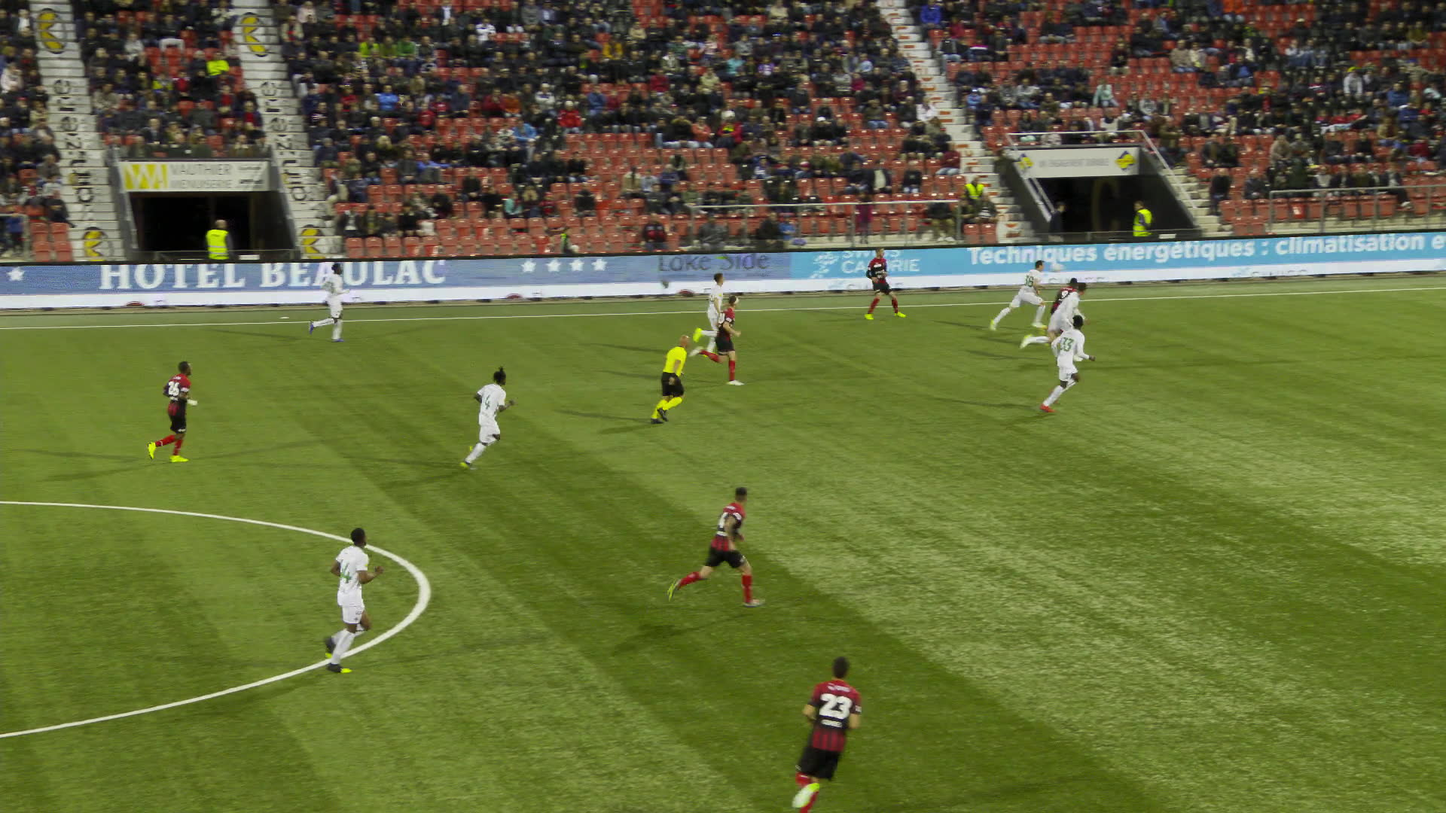ball: (1051, 263, 1062, 272)
player: (798, 646, 877, 812), (298, 522, 385, 670), (685, 487, 750, 617), (448, 364, 513, 468), (145, 357, 201, 464), (1028, 312, 1088, 410), (1023, 282, 1094, 363), (677, 267, 740, 354), (697, 291, 743, 380), (1025, 275, 1078, 344), (311, 260, 352, 341), (1002, 258, 1047, 330), (863, 243, 892, 318)
referee: (642, 333, 695, 422)
